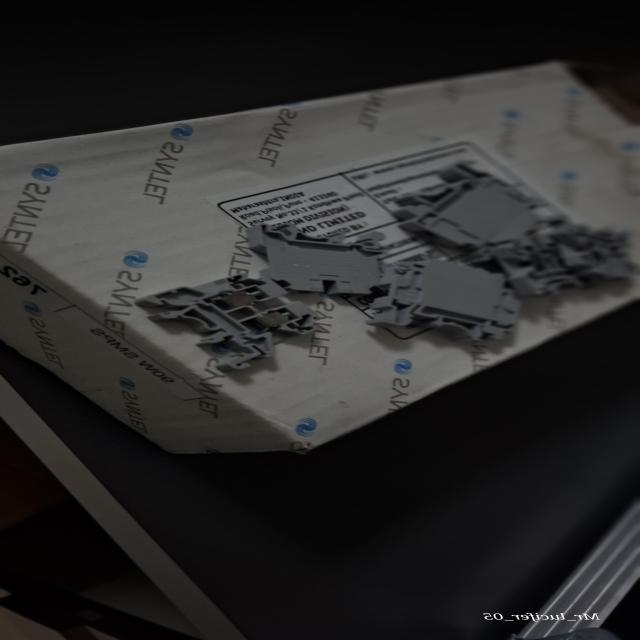Inverted: (230, 222, 400, 293)
Pass: (140, 272, 334, 376)
